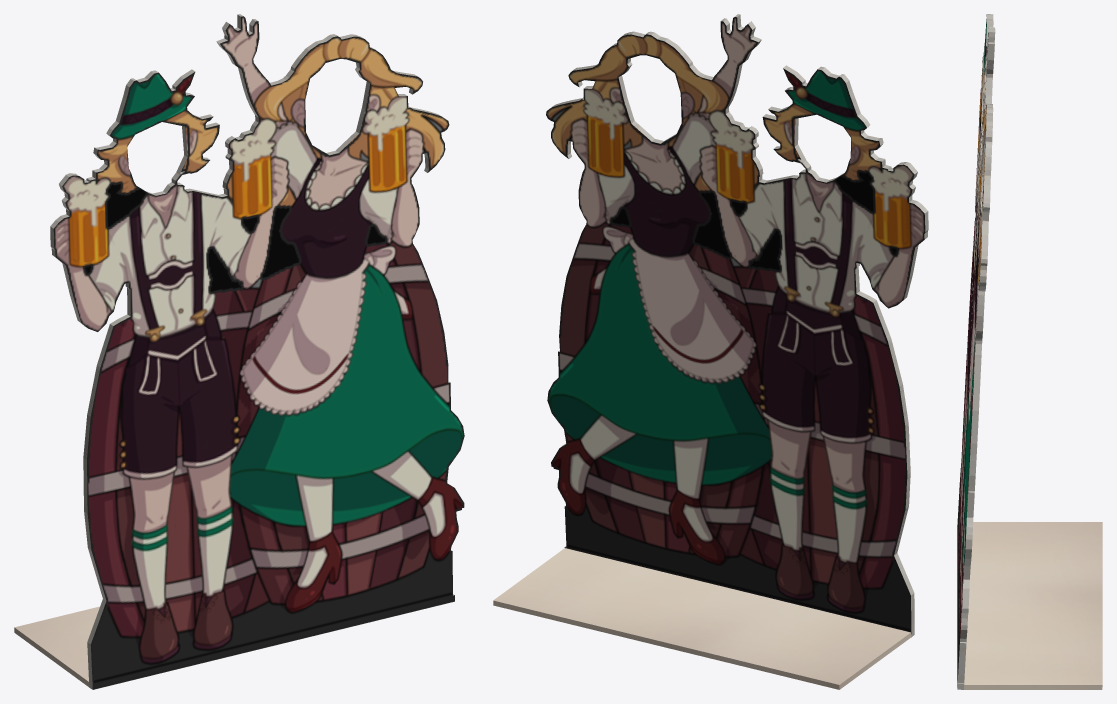
The model's file is BoardCutout.glb.
The picture shows the model from 3 angles, left to right: view 1: azimuth 30°, elevation 25°; view 2: azimuth 150°, elevation 25°; view 3: azimuth 270°, elevation 25°; orthographic projection. The views are drawn at different scales.
Parts seen in each view (by area): view 1: BoardCutout; view 2: BoardCutout; view 3: BoardCutout.
Part boxes in pixels (bbox=[...]): BoardCutout: bbox=[14, 14, 464, 689]; BoardCutout: bbox=[493, 14, 928, 689]; BoardCutout: bbox=[957, 14, 1102, 689].
Bounding box in the file's own units: 1.33 × 1.96 × 0.4504.
Materials: 3 (3 with a texture image).
